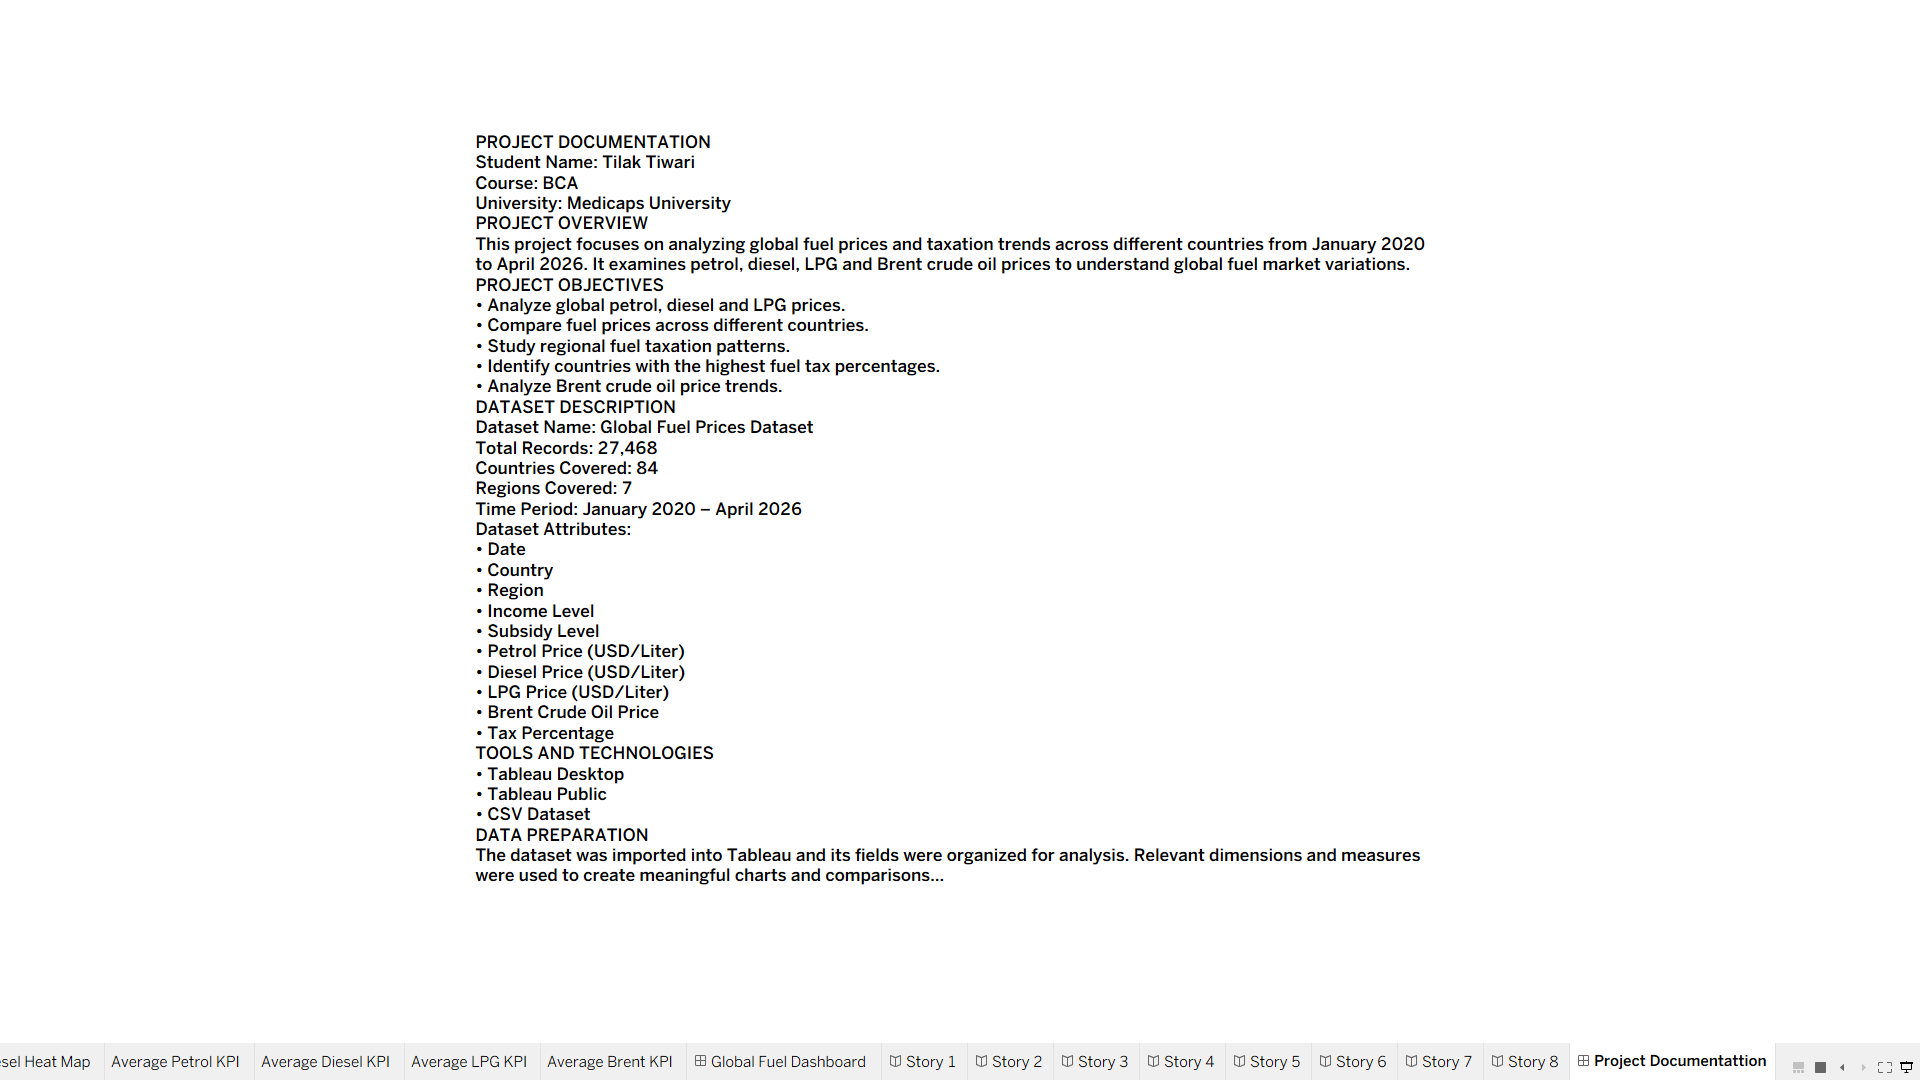

The page's visual inventory and layout, read from the dashboard file:
{"tool":"tableau","page":{"name":"Project Documentattion","canvas":[1000,800],"ordinal":2},"visuals":[{"type":"text","box":[8,8,984,784]}]}

Visuals, with their boxes on the page's 1000x800 design canvas (x1, y1, x2, y2). These are canvas units, not pixel positions in the 1920x1080 screenshot, which may show the page scaled, cropped or inside an application window:
text: [x1=8, y1=8, x2=992, y2=792]
